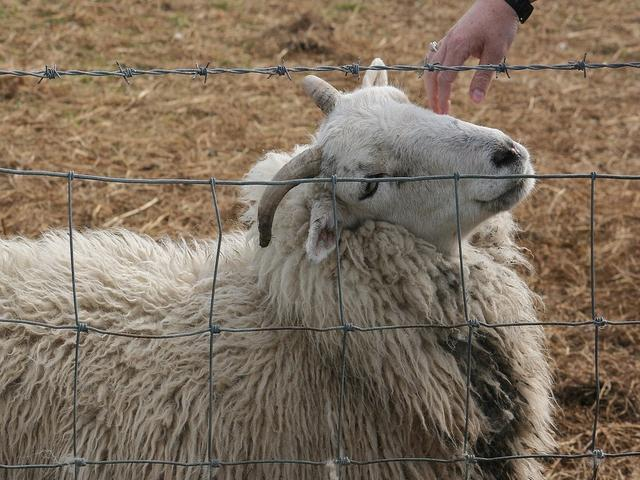sheep: (132, 8, 552, 404)
